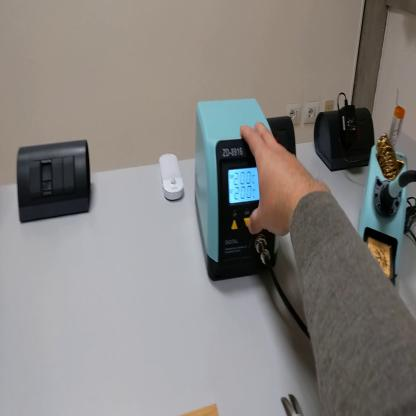hand: (241, 121, 312, 240)
pliers: (281, 393, 306, 416)
socket: (315, 110, 378, 172), (267, 115, 300, 171)
welder base: (356, 105, 410, 300)
welder probe tip: (381, 169, 416, 222)
welder station: (193, 101, 282, 289)
working area: (175, 403, 220, 416)
